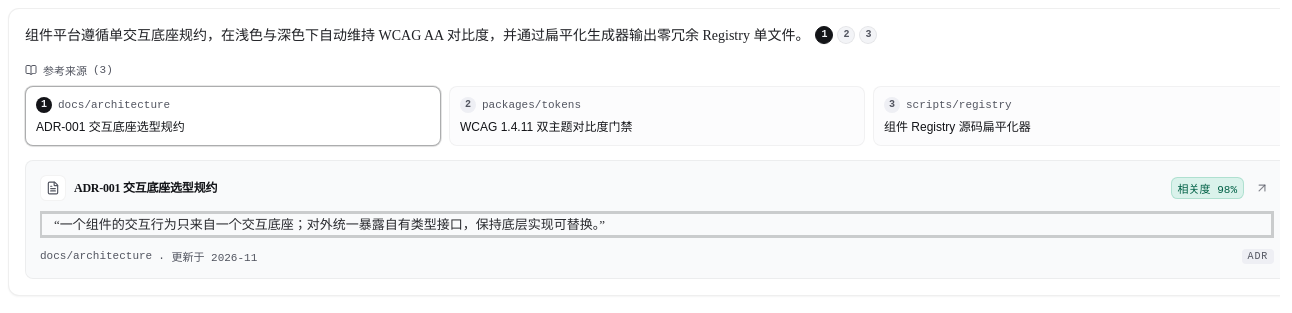
AiCitation › 点击引用编号胶囊切换当前展示的 RAG 上下文片段并触发回调
Expected: the text "“一个组件的交互行为只来自一个交互底座；对外统一暴露自有类型接口，保持底层实现可替换。”" is shown, [40,211,1274,238]
Step 1. Click the button "2 packages/tokens WCAG 1.4.11 双主题对比度门禁" → x=532, y=105, box [449,86,865,146]
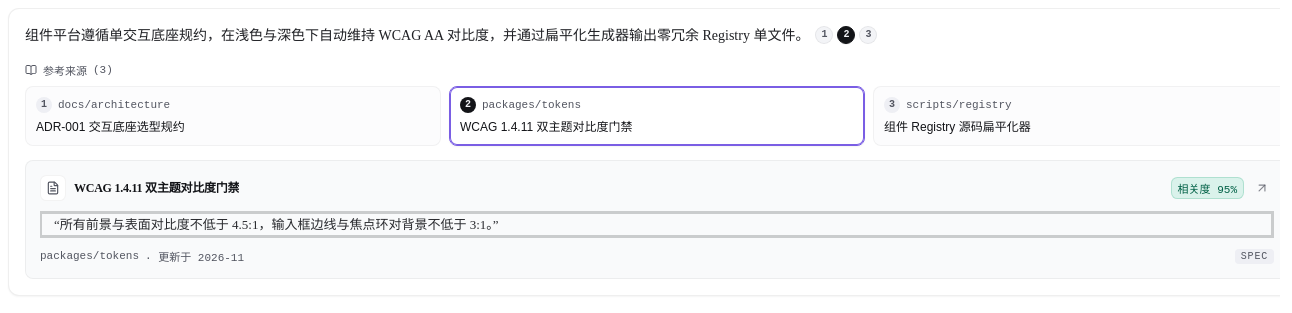
Expected: the text "“所有前景与表面对比度不低于 4.5:1，输入框边线与焦点环对背景不低于 3:1。”" is shown, [40,211,1274,238]
